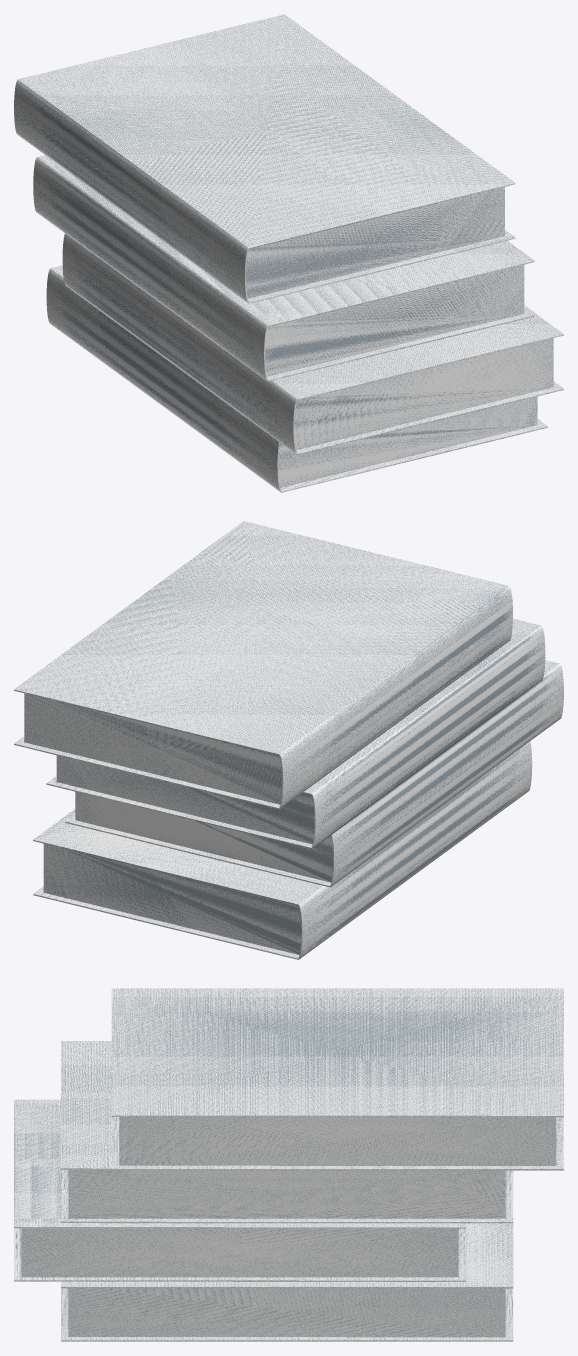
File: PilhaLivros.fbx
3 renders of one model, top to bottom at view 1: azimuth 30°, elevation 25°; view 2: azimuth 150°, elevation 25°; view 3: azimuth 270°, elevation 25°, orthographic. The views are drawn at different scales.
Parts seen in each view (by area): view 1: Group7, Group1, Group5, Group3, Group2, Group6, Group8, Group4; view 2: Group7, Group3, Group1, Group5, Group4, Group8, Group6, Group2; view 3: Group7, Group6, Group4, Group2, Group8, Group5, Group1, Group3.
Boxes of the visible parts, <box> form: Group7: <box>14,14,515,303</box>; Group1: <box>33,155,534,381</box>; Group5: <box>62,233,563,454</box>; Group3: <box>46,265,547,492</box>; Group2: <box>265,265,524,376</box>; Group6: <box>294,338,553,449</box>; Group8: <box>246,187,504,298</box>; Group4: <box>278,396,537,487</box>; Group7: <box>14,521,512,809</box>; Group3: <box>33,741,532,959</box>; Group1: <box>46,618,545,849</box>; Group5: <box>65,660,563,887</box>; Group4: <box>43,844,301,954</box>; Group8: <box>24,693,281,804</box>; Group6: <box>75,791,332,882</box>; Group2: <box>56,755,314,844</box>; Group7: <box>111,988,563,1170</box>; Group6: <box>21,1228,458,1277</box>; Group4: <box>68,1288,505,1337</box>; Group2: <box>68,1170,505,1218</box>; Group8: <box>119,1117,556,1165</box>; Group5: <box>14,1099,466,1281</box>; Group1: <box>61,1041,513,1223</box>; Group3: <box>61,1223,513,1341</box>.
Bounding box in the file's own units: 21.3 × 16.32 × 36.48.
